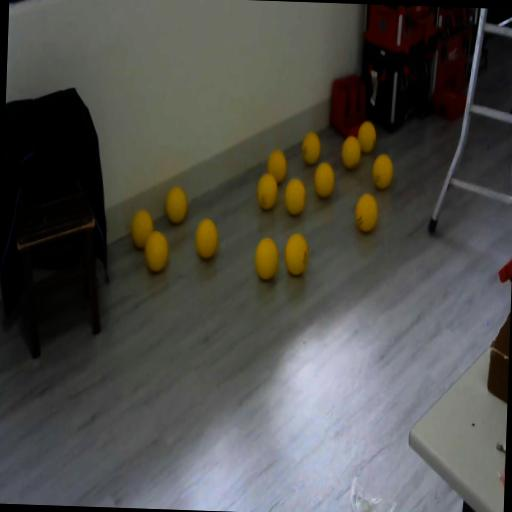FUEL: (142, 228, 170, 273), (253, 236, 280, 282), (282, 232, 308, 276), (193, 216, 218, 259), (354, 192, 378, 233), (164, 184, 188, 224), (312, 160, 334, 198), (256, 172, 278, 210), (284, 178, 306, 216), (371, 153, 393, 189), (266, 148, 287, 184), (340, 134, 361, 169), (301, 131, 321, 165), (356, 120, 376, 154)
